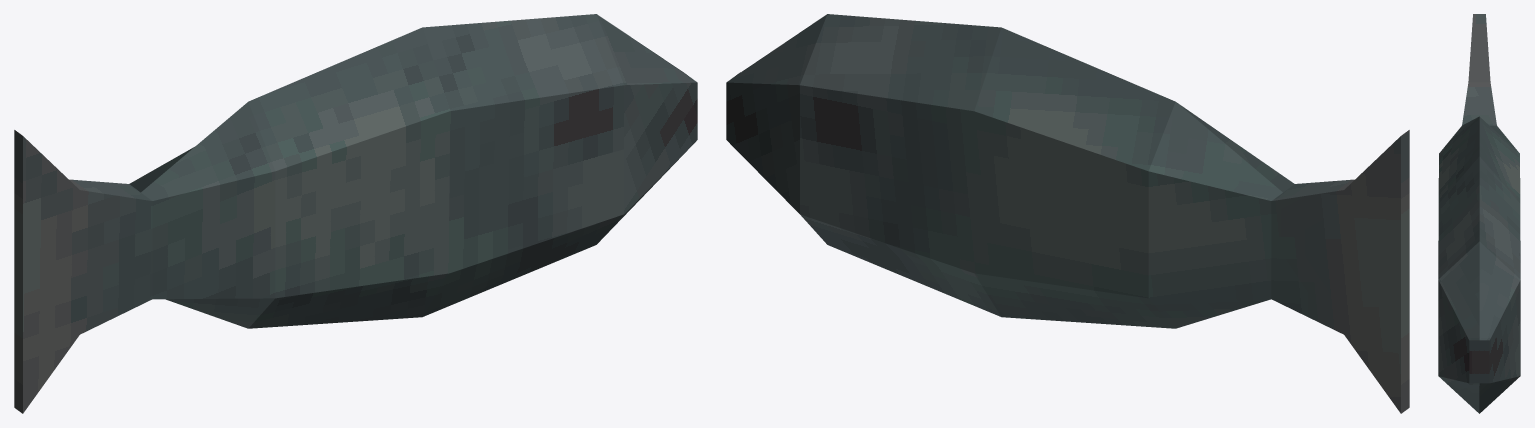
Rendered from fish.glb.
3 views of the same model, side by side, from view 1: azimuth 30°, elevation 25°; view 2: azimuth 150°, elevation 25°; view 3: azimuth 270°, elevation 25° (orthographic). The views are drawn at different scales.
Visible parts, largest first — view 1: fish; view 2: fish; view 3: fish.
Part boxes in pixels (x1=…): fish: x1=14, y1=14, x2=697, y2=413; fish: x1=726, y1=14, x2=1409, y2=413; fish: x1=1438, y1=14, x2=1520, y2=413.
Bounding box in the file's own units: 0.8 × 0.3296 × 0.1136.
1 material, 1 textured.
